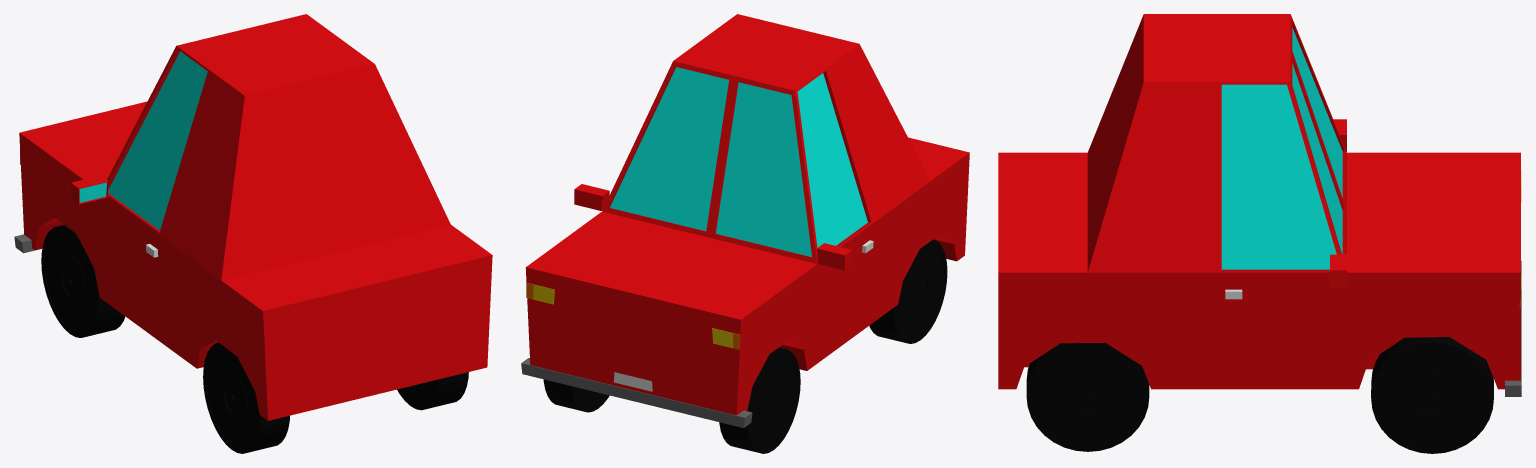
Rendered from car.fbx.
3 renders of one model, left to right at view 1: azimuth 30°, elevation 25°; view 2: azimuth 150°, elevation 25°; view 3: azimuth 270°, elevation 25°, orthographic. The views are drawn at different scales.
Parts seen in each view (by area): view 1: Cube, Cylinder, Cylinder.001, Cylinder.002; view 2: Cube, Cylinder, Cylinder.001, Cylinder.003; view 3: Cube, Cylinder.003, Cylinder.002.
Part boxes in pixels (<box>): Cube: <box>14,14,492,420</box>; Cylinder: <box>41,225,125,337</box>; Cylinder.001: <box>203,342,289,453</box>; Cylinder.002: <box>397,372,468,410</box>; Cube: <box>521,14,969,427</box>; Cylinder: <box>719,347,800,453</box>; Cylinder.001: <box>869,239,947,343</box>; Cylinder.003: <box>543,379,609,412</box>; Cube: <box>998,14,1521,396</box>; Cylinder.003: <box>1371,337,1493,453</box>; Cylinder.002: <box>1026,342,1149,451</box>.
Size of the model in its own units: 251 by 271 by 368.
